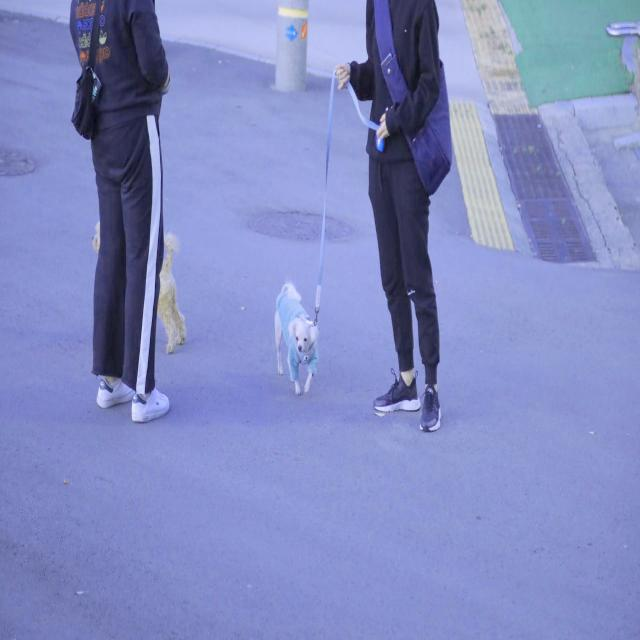Leashed_Dog: (274, 60, 408, 397), (89, 76, 188, 354)
